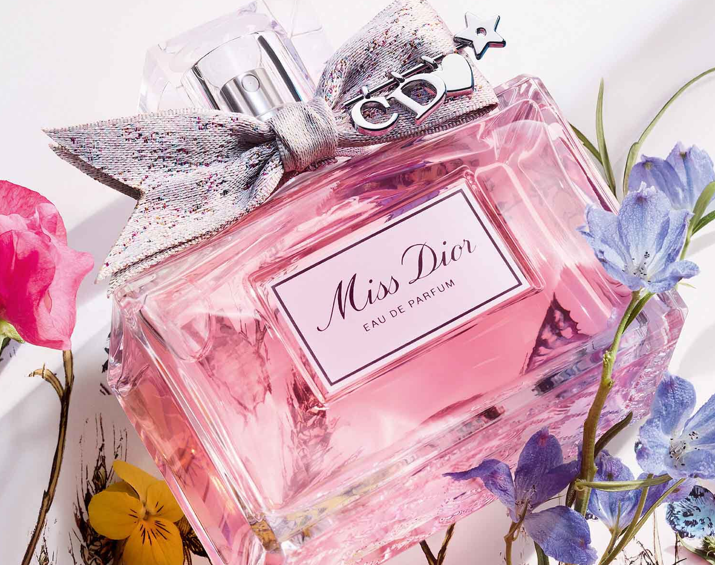dior_miss_dior: (31, 6, 689, 547)
